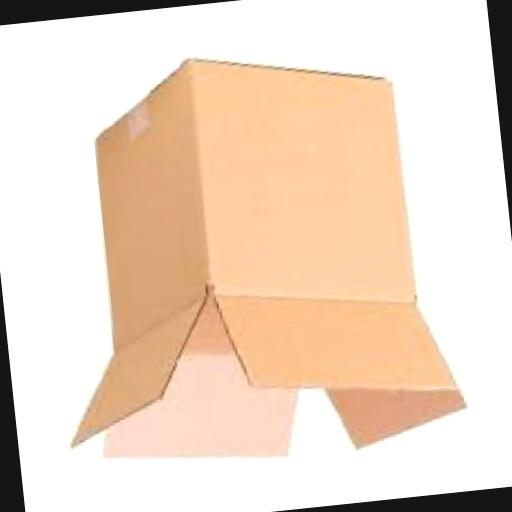cardboard: (28, 36, 470, 486)
